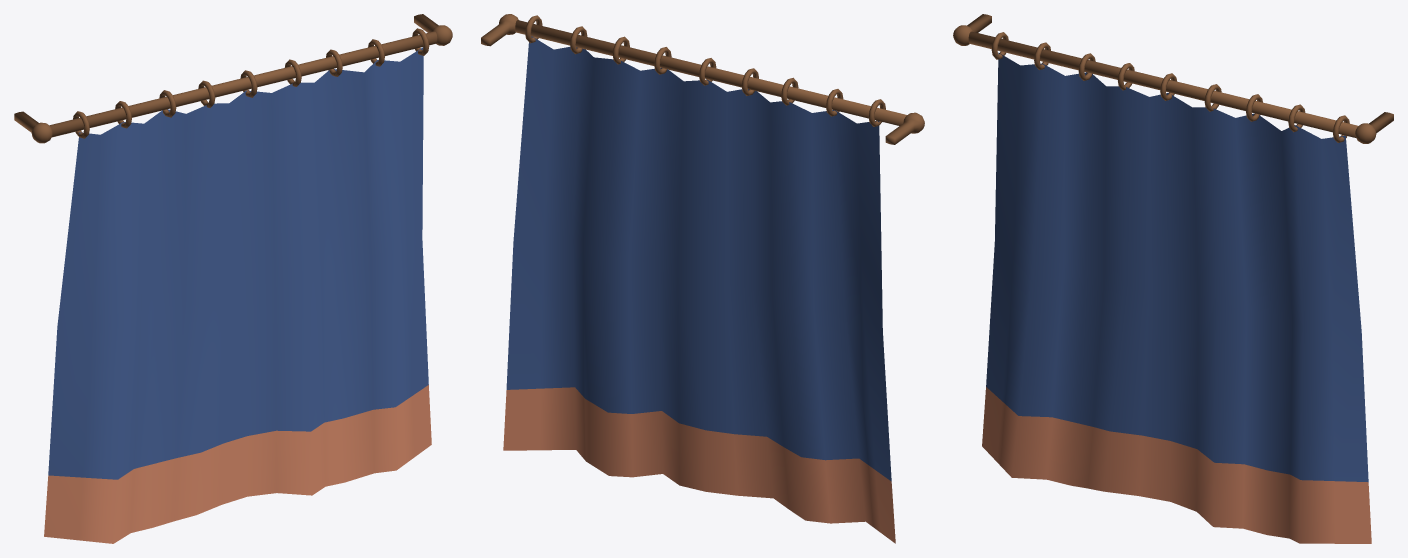
Rendered from Cortina pieza Carlitos.fbx.
3 renders of one model, left to right at view 1: azimuth 30°, elevation 25°; view 2: azimuth 150°, elevation 25°; view 3: azimuth 330°, elevation 25°, orthographic.
Parts seen in each view (by area): view 1: Cortina pieza chico; view 2: Cortina pieza chico; view 3: Cortina pieza chico.
Part boxes in pixels (left/top/right/bottom): Cortina pieza chico: left=14, top=14, right=452, bottom=543; Cortina pieza chico: left=481, top=14, right=924, bottom=543; Cortina pieza chico: left=953, top=14, right=1393, bottom=543.
Bounding box in the file's own units: 135 × 135 × 19.75.
